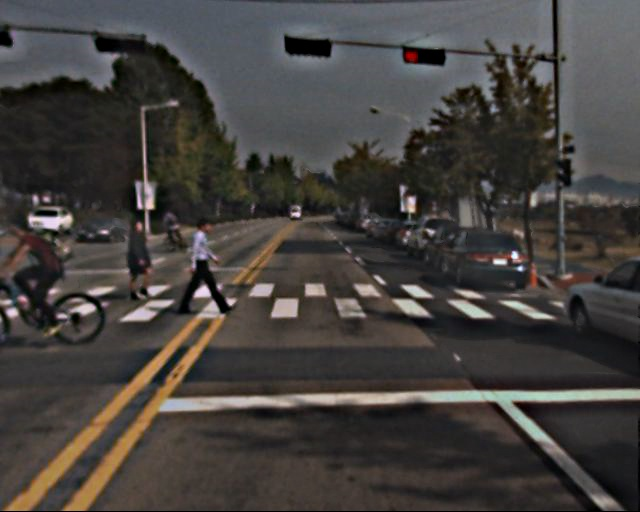person: (10, 213, 86, 338), (183, 209, 226, 318), (123, 214, 159, 300)
